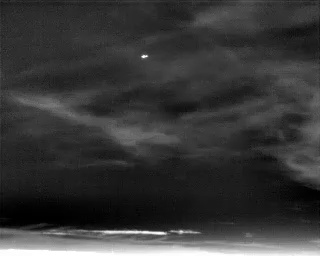AIRPLANE: (139, 51, 150, 61)
